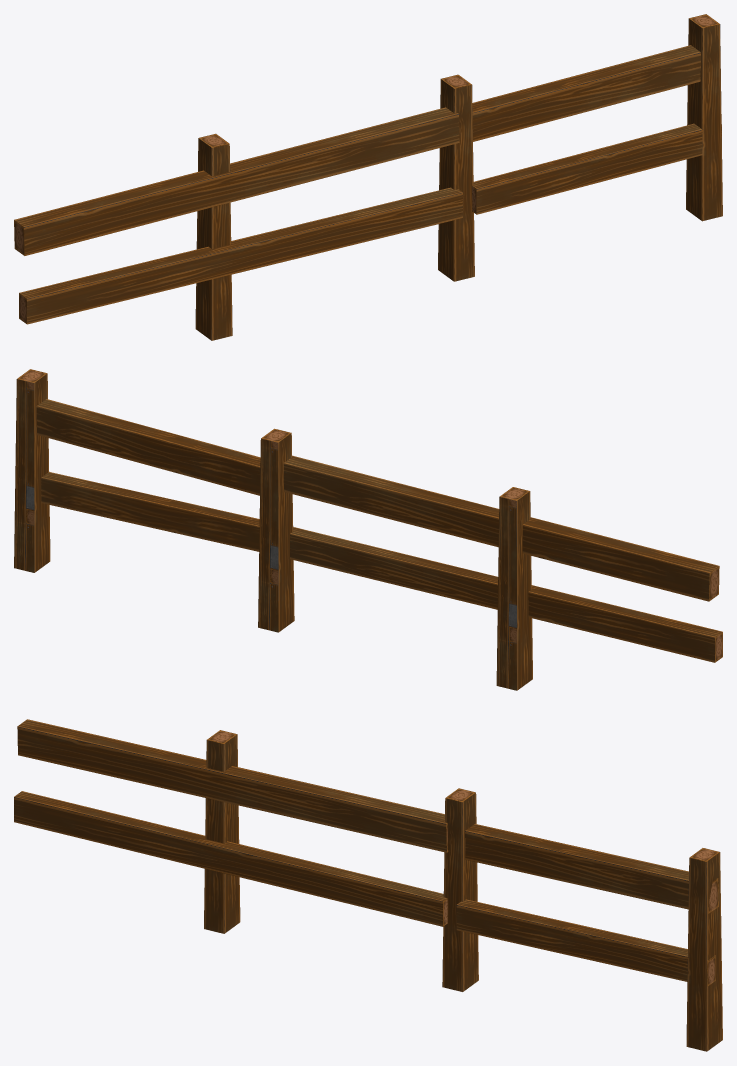
3 renders of one model, top to bottom at view 1: azimuth 30°, elevation 25°; view 2: azimuth 150°, elevation 25°; view 3: azimuth 330°, elevation 25°, orthographic.
Visible parts, largest first — view 1: Cube.1618; view 2: Cube.1618; view 3: Cube.1618.
Boxes of the visible parts, x1,y1,x2,y2 form: Cube.1618: (14,14,722,340); Cube.1618: (14,369,722,690); Cube.1618: (14,719,722,1051).
Bounding box in the file's own units: 504 × 132 × 25.43.
1 material, 1 textured.
